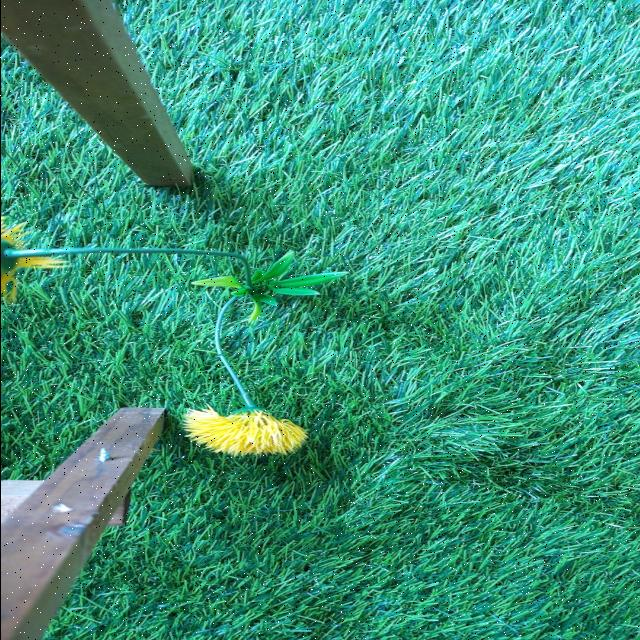base: (184, 250, 340, 322)
flower: (180, 410, 306, 456), (0, 219, 67, 299)
